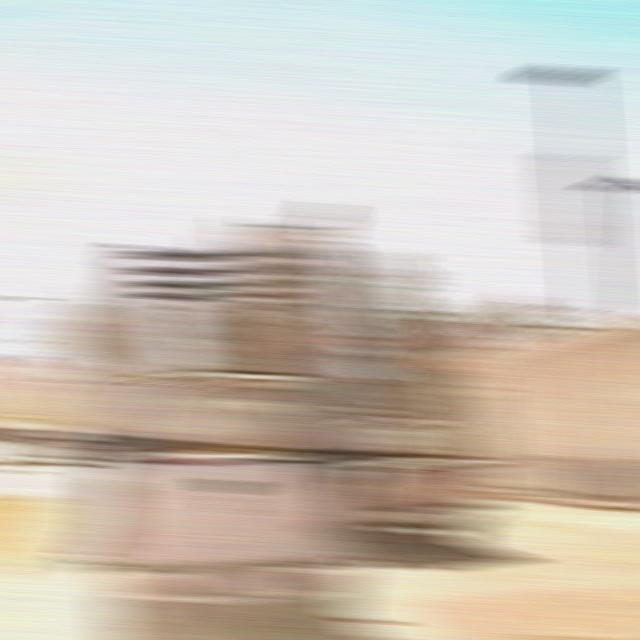stop: (423, 317, 474, 358), (0, 353, 50, 390)
